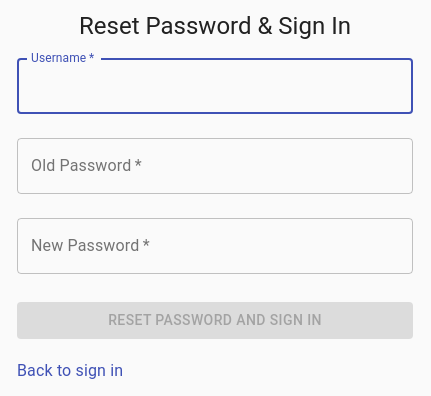
Test: Disable Form › should be enabled when Username, Temp Password and New Password is inputted
The image size is (431, 396).
In the field with id "username": (215, 86) [17, 58, 413, 114], type "testUsername"
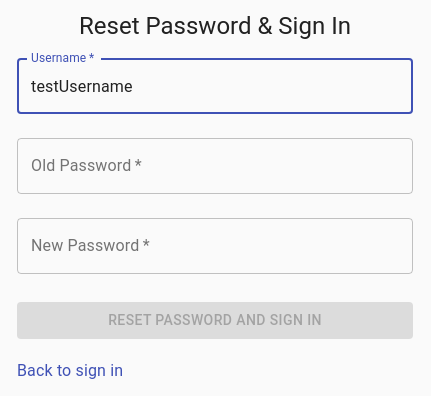
In the password field with id "old-password": (215, 166) [17, 138, 413, 194], type "testTempPassword"
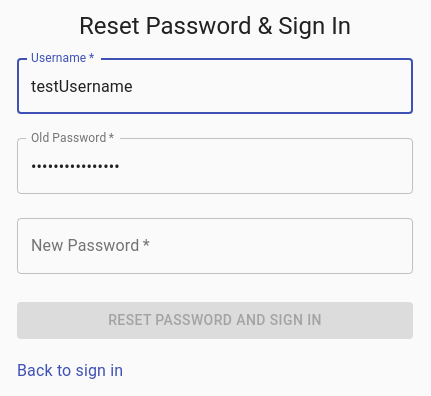
In the password field with id "new-password": (215, 246) [17, 218, 413, 274], type "testNewPassword"
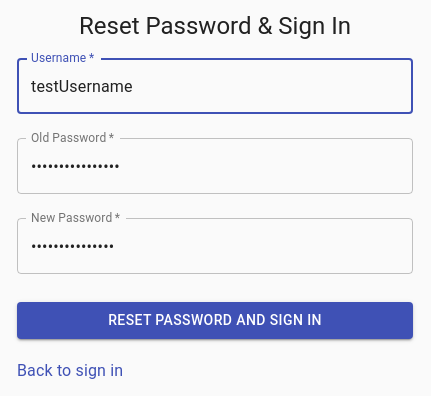
Check: the button with id "submit-sign-in-button" is enabled, box [17, 302, 413, 338]
